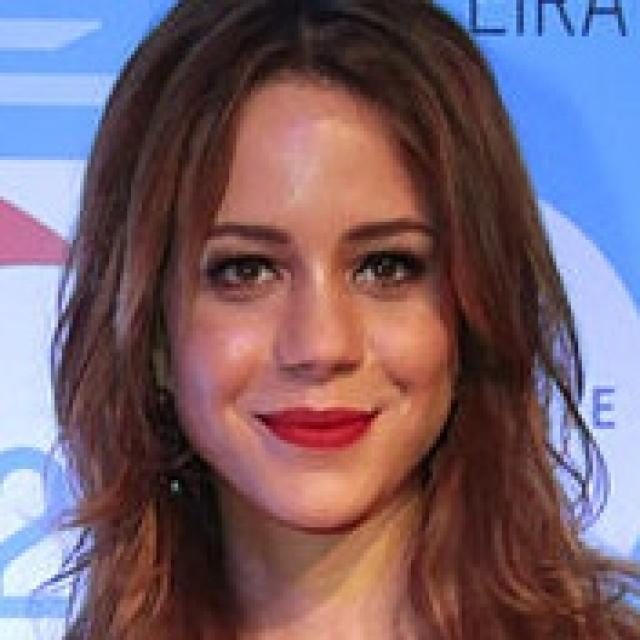Normal: (162, 69, 464, 531)
